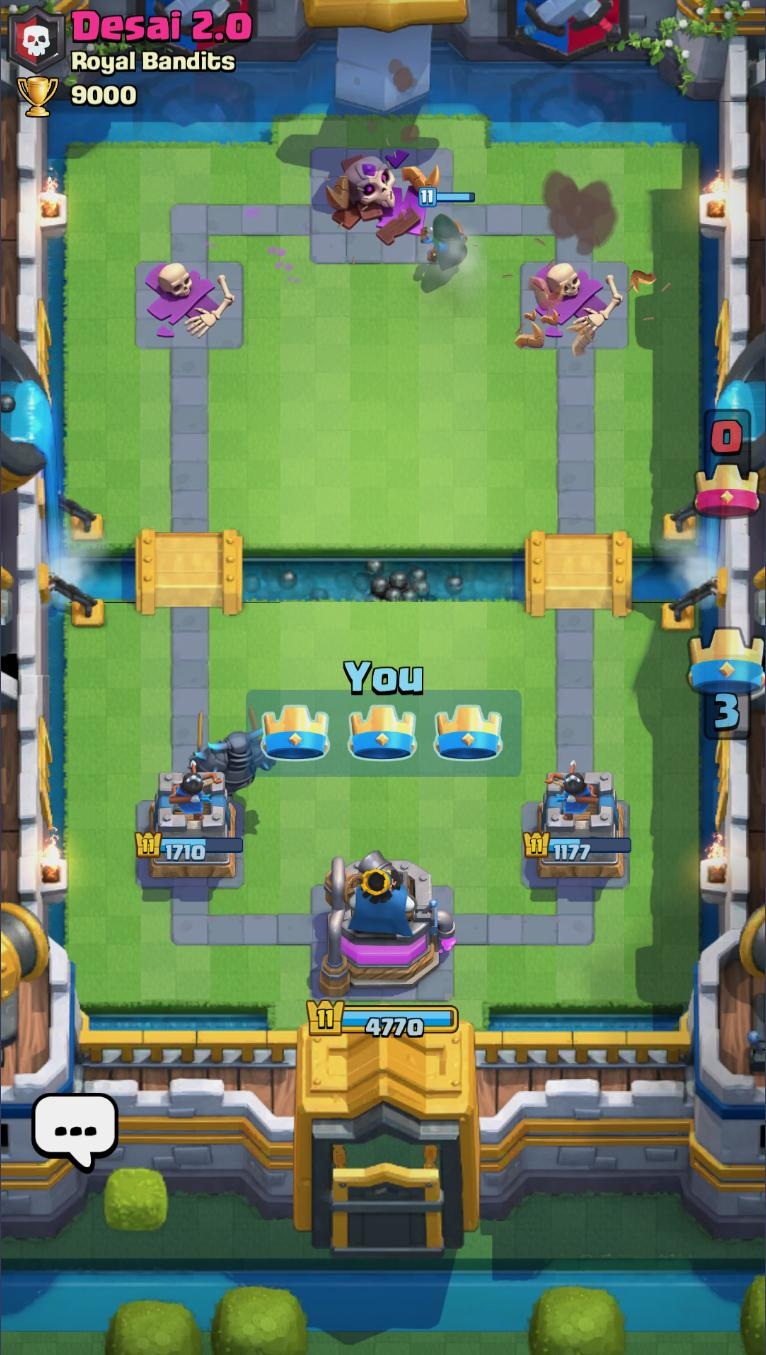EnemyTowerBrocken: (131, 258, 247, 353), (516, 257, 631, 352)
KingTowerBrocken: (311, 139, 452, 265)
MyBandit: (416, 186, 479, 273)
MyKingHP: (305, 997, 466, 1041)
MyKingTower: (312, 845, 459, 1001)
MyPekka: (188, 705, 279, 800)
MyPrincessTower: (519, 769, 635, 886), (138, 769, 239, 883)
MyPrincessTowerHP: (521, 829, 637, 864), (133, 831, 246, 863)
